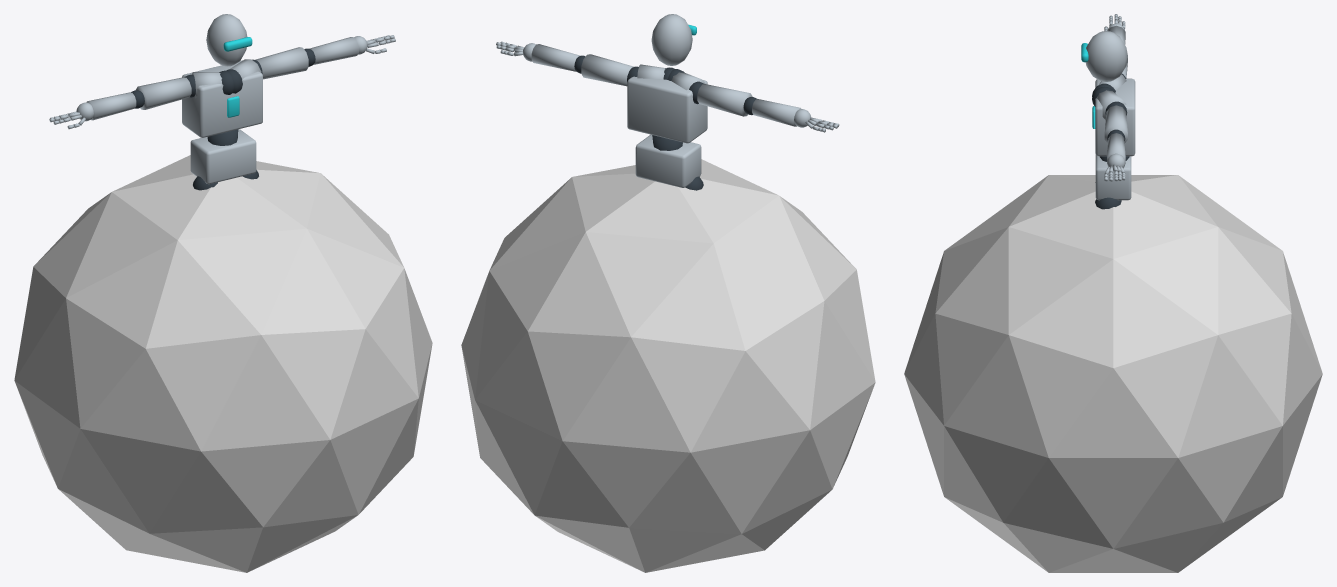
File: robot.glb
3 renders of one model, left to right at view 1: azimuth 30°, elevation 25°; view 2: azimuth 150°, elevation 25°; view 3: azimuth 270°, elevation 25°, orthographic. The views are drawn at different scales.
Parts seen in each view (by area): view 1: Public_Robot.001, Public_Robot; view 2: Public_Robot.001, Public_Robot; view 3: Public_Robot.001, Public_Robot.
Part boxes in pixels (x1,y1,x2,y2): Public_Robot.001: (14,155,432,572); Public_Robot: (49,14,395,190); Public_Robot.001: (461,159,875,572); Public_Robot: (496,14,839,190); Public_Robot.001: (904,175,1322,572); Public_Robot: (1081,14,1135,209).
Size of the model in its own units: 1.9 by 2.8 by 2.
